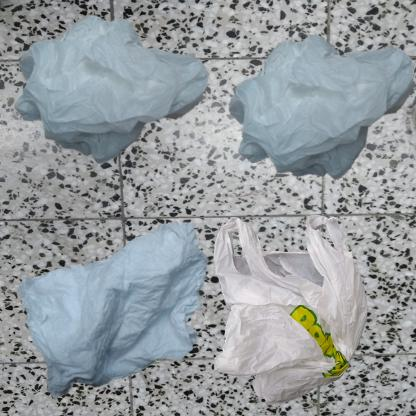bolsa: (213, 10, 416, 217), (10, 10, 216, 173), (213, 213, 368, 406)
papel: (10, 213, 252, 416)
